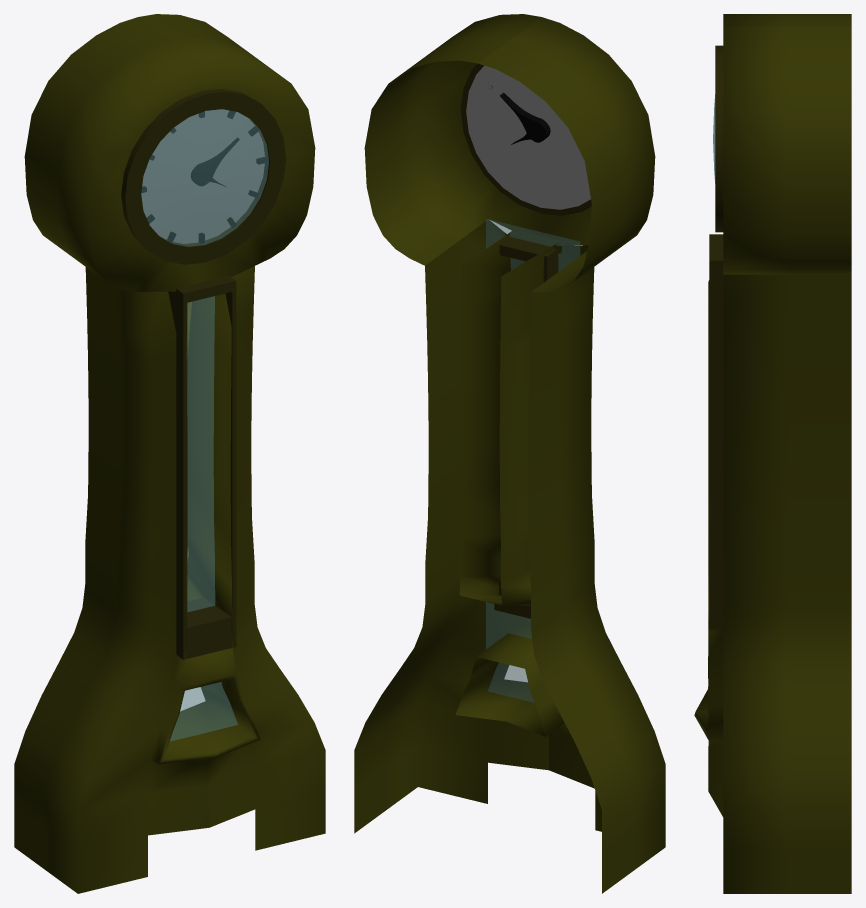
Rendered from reloj.FBX.
The picture shows the model from 3 angles, left to right: view 1: azimuth 30°, elevation 25°; view 2: azimuth 150°, elevation 25°; view 3: azimuth 270°, elevation 25°; orthographic projection.
Parts seen in each view (by area): view 1: Loft001, Circle002, Circle001, Plane001, Box013, Tube001, Loft002; view 2: Loft001, Circle001, Plane001, Box013, Tube001, Loft002; view 3: Loft001, Box013, Tube001.
Boxes of the visible parts, x1,y1,x2,y2 form: Loft001: (14, 14, 325, 893); Circle002: (141, 109, 268, 246); Circle001: (141, 109, 264, 243); Plane001: (170, 296, 237, 741); Box013: (168, 276, 236, 659); Tube001: (121, 89, 285, 264); Loft002: (190, 137, 239, 186); Loft001: (354, 14, 665, 893); Circle001: (466, 65, 590, 209); Plane001: (486, 219, 580, 702); Box013: (494, 229, 573, 618); Tube001: (460, 63, 591, 215); Loft002: (499, 92, 550, 142); Loft001: (694, 14, 851, 893); Box013: (709, 234, 723, 629); Tube001: (715, 45, 723, 232).
Size of the model in its own units: 615 by 1899 by 336.
